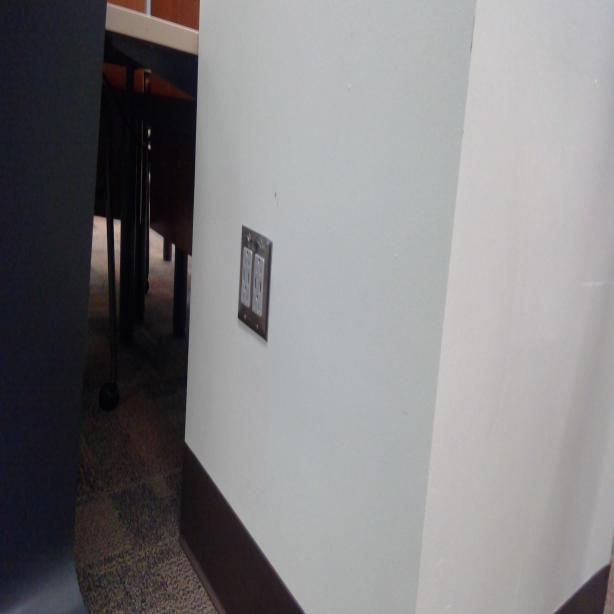typeb: (242, 249, 253, 270), (254, 257, 265, 278), (252, 294, 262, 315), (240, 285, 251, 304)
